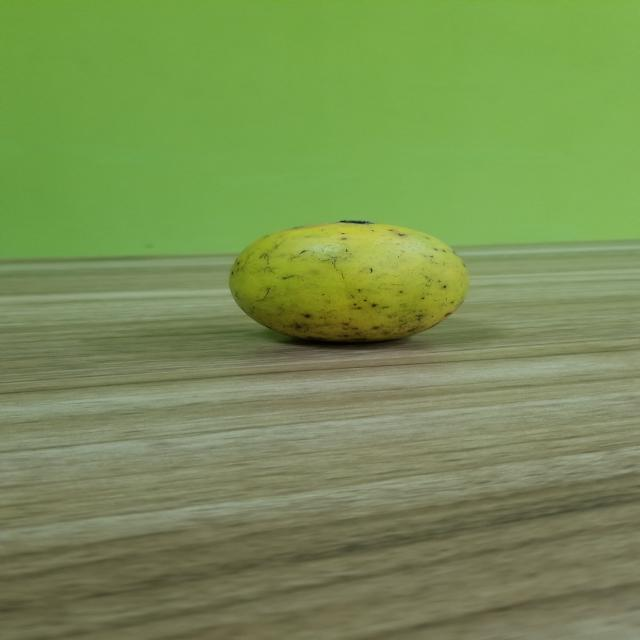Ripe orange: (222, 213, 477, 354)
